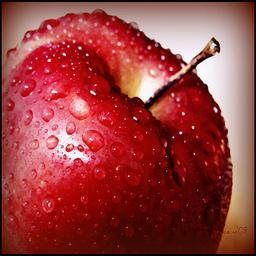apple: (0, 11, 235, 253)
